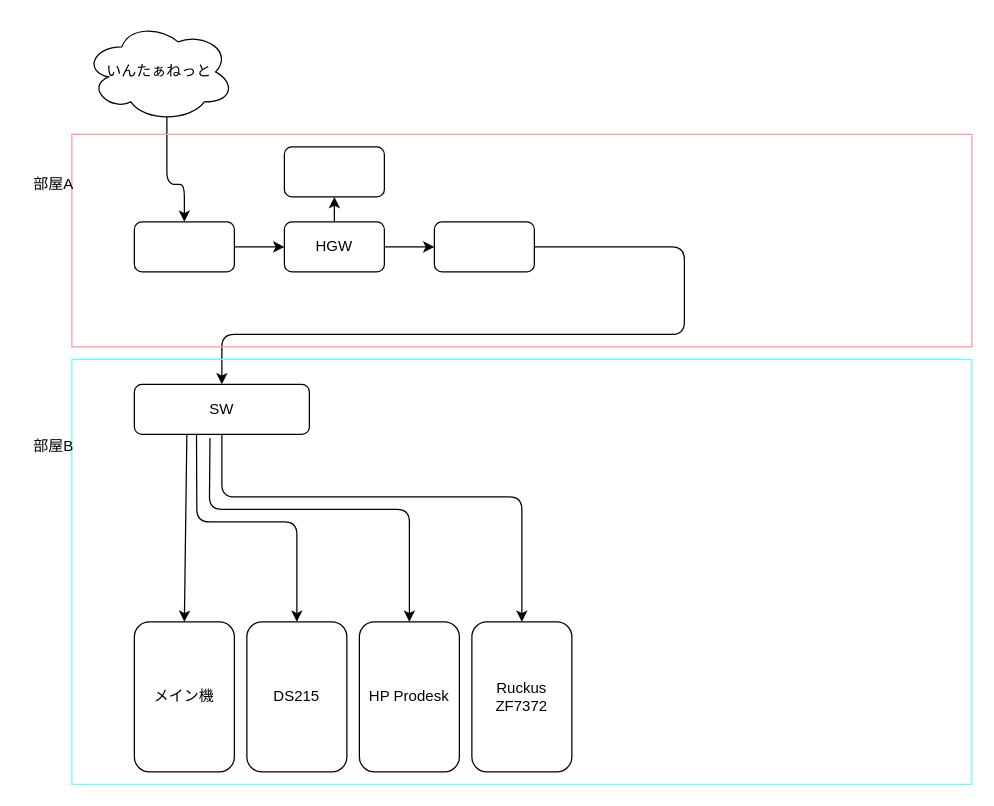
Some shapes in this 994 by 806 pixel diagram are drawn without their labels. The shapes that lost their labels are listed below. From the top down, each one's centre as x and y in pixels, then its label:
At point 333,171: "光電話".
At point 183,246: "ONU".
At point 483,246: "RT(IPoE)".
